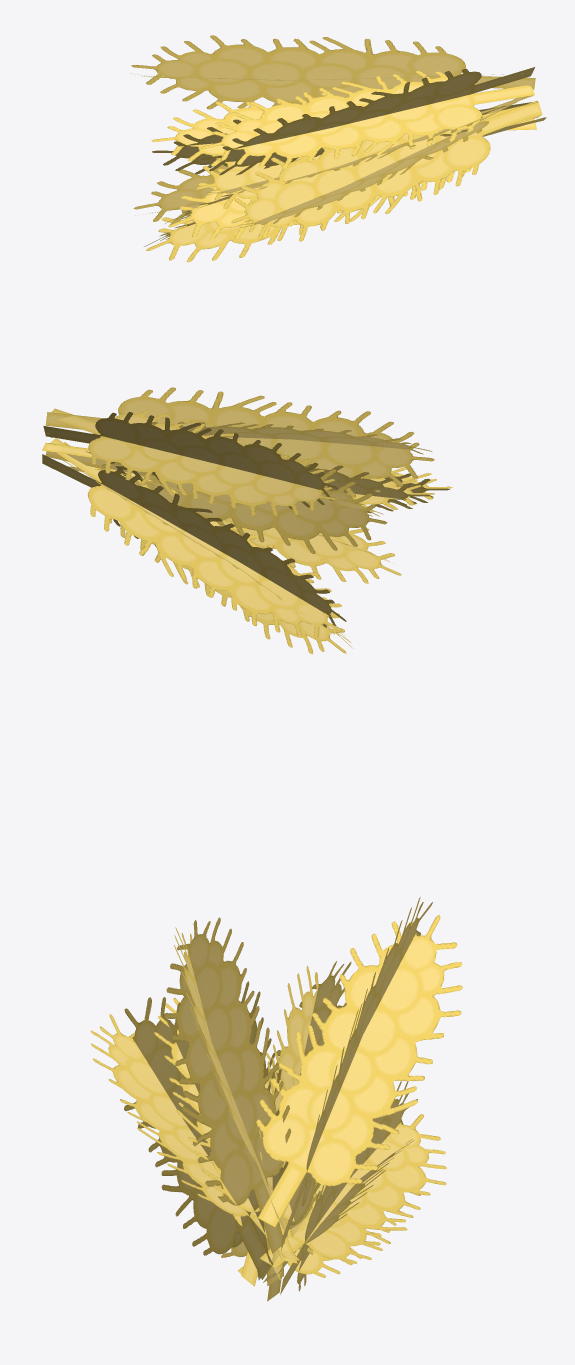
The model's file is Wheat_Item.fbx.
3 views of the same model, one above another, from view 1: azimuth 30°, elevation 25°; view 2: azimuth 150°, elevation 25°; view 3: azimuth 270°, elevation 25° (orthographic). The views are drawn at different scales.
Parts seen in each view (by area): view 1: Top (8), Top (11), Top (7), Top (9), Top (5), Top (10), Top (4), Top (6); view 2: Top (6), Top (7), Top (8), Top (9), Top (4), Top (10), Top (5), Top (11); view 3: Top (7), Top (8), Top (11), Top (6), Top (9), Top (10), Top (5), Top (4).
Part boxes in pixels (bbox=[...]): Top (8): bbox=[200, 67, 534, 175]; Top (11): bbox=[231, 96, 537, 241]; Top (7): bbox=[130, 35, 535, 109]; Top (9): bbox=[151, 93, 537, 174]; Top (5): bbox=[144, 115, 544, 262]; Top (10): bbox=[196, 95, 542, 212]; Top (4): bbox=[165, 116, 546, 239]; Top (6): bbox=[133, 102, 537, 224]; Top (6): bbox=[42, 438, 346, 637]; Top (7): bbox=[43, 408, 338, 516]; Top (8): bbox=[45, 387, 434, 497]; Top (9): bbox=[45, 444, 387, 553]; Top (4): bbox=[45, 454, 401, 583]; Top (10): bbox=[42, 443, 434, 513]; Top (5): bbox=[49, 442, 353, 654]; Top (11): bbox=[43, 443, 452, 507]; Top (7): bbox=[256, 897, 462, 1250]; Top (8): bbox=[164, 917, 291, 1253]; Top (11): bbox=[90, 997, 299, 1279]; Top (6): bbox=[259, 1081, 446, 1294]; Top (9): bbox=[259, 961, 351, 1301]; Top (10): bbox=[154, 981, 314, 1280]; Top (5): bbox=[238, 1139, 420, 1282]; Top (4): bbox=[220, 1053, 322, 1286].
Size of the model in its own units: 1.52 by 0.8759 by 1.05.
